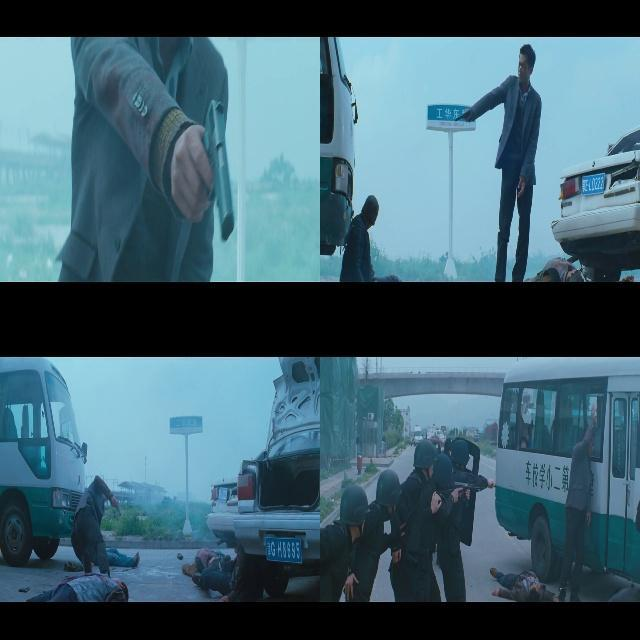gun-knife-thesis - v11 Yolov5 augmented: (169, 94, 234, 246), (435, 473, 483, 504), (453, 106, 470, 124), (108, 497, 120, 515)
